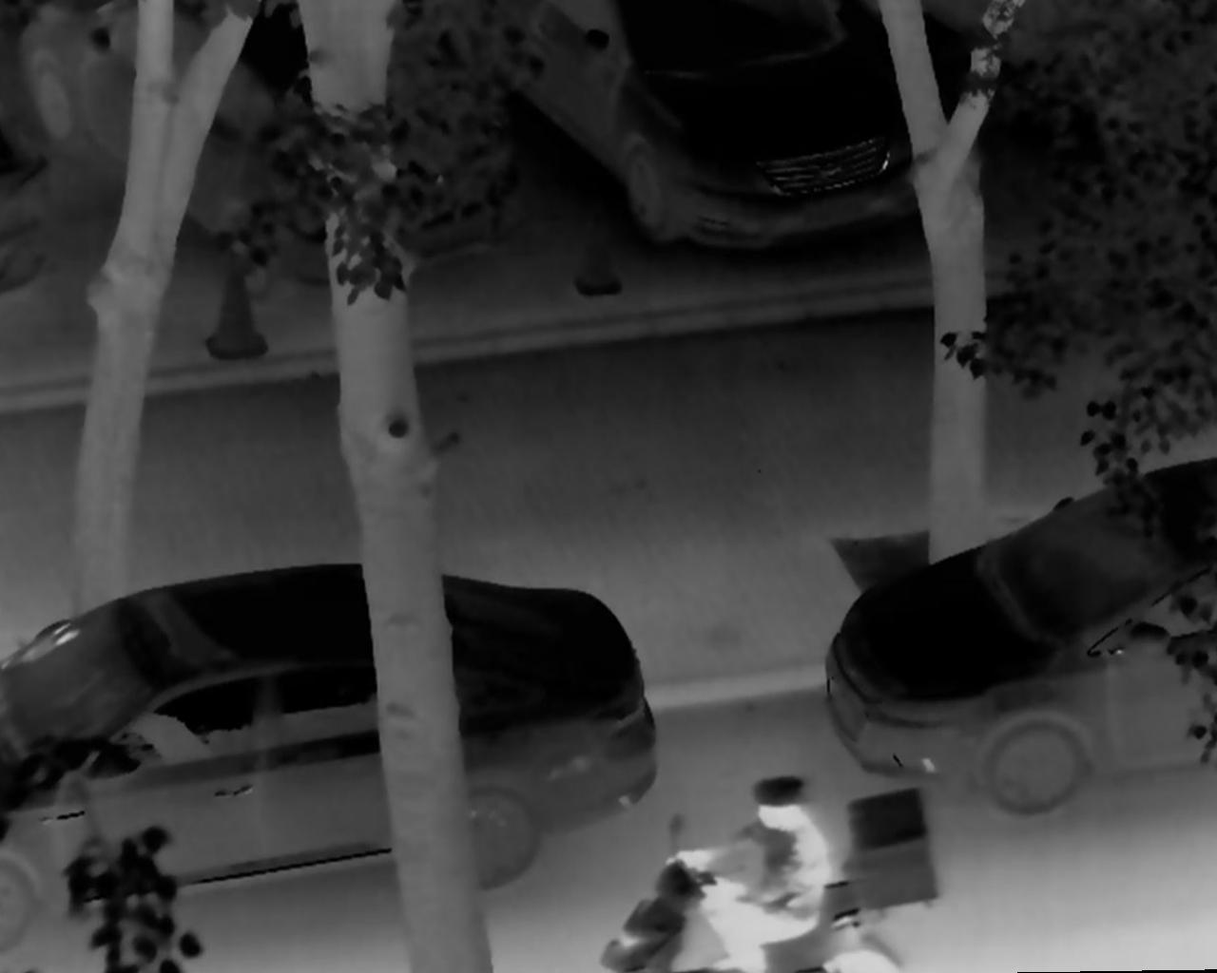person: (658, 766, 832, 973)
